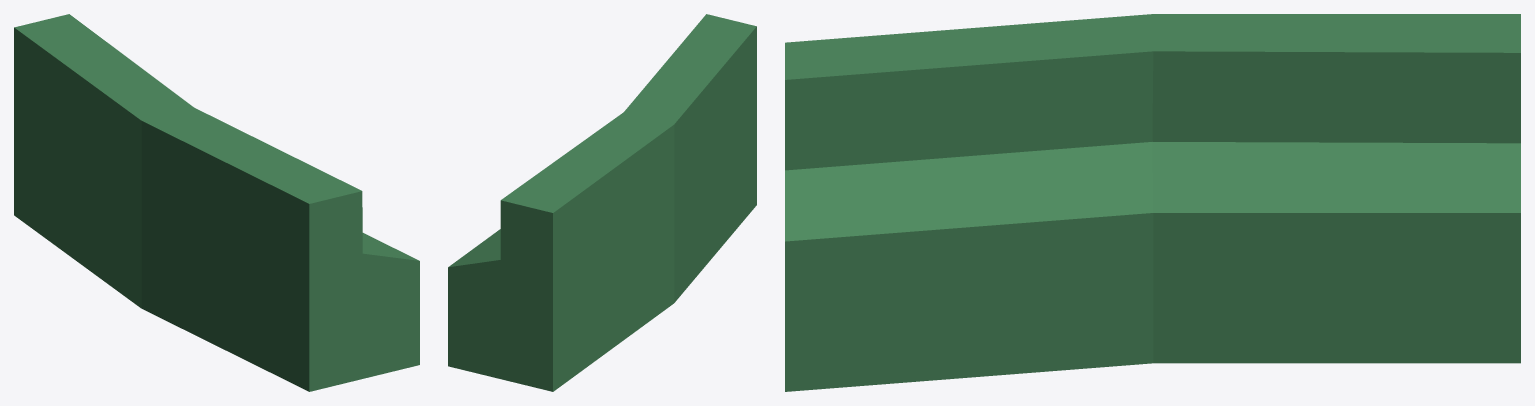
The model's file is middle_console_03.glb.
The picture shows the model from 3 angles, left to right: view 1: azimuth 30°, elevation 25°; view 2: azimuth 150°, elevation 25°; view 3: azimuth 270°, elevation 25°; orthographic projection. The views are drawn at different scales.
Parts seen in each view (by area): view 1: Cube.002; view 2: Cube.002; view 3: Cube.002.
Part boxes in pixels (left/top/right/bottom): Cube.002: left=14, top=14, right=419, bottom=391; Cube.002: left=448, top=14, right=756, bottom=391; Cube.002: left=785, top=14, right=1520, bottom=391.
Bounding box in the file's own units: 1.5 × 1.79 × 4.4.
1 material, 1 textured.
